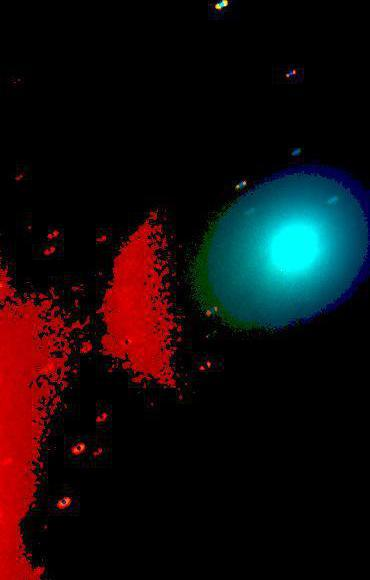star: (0, 444, 24, 474)
